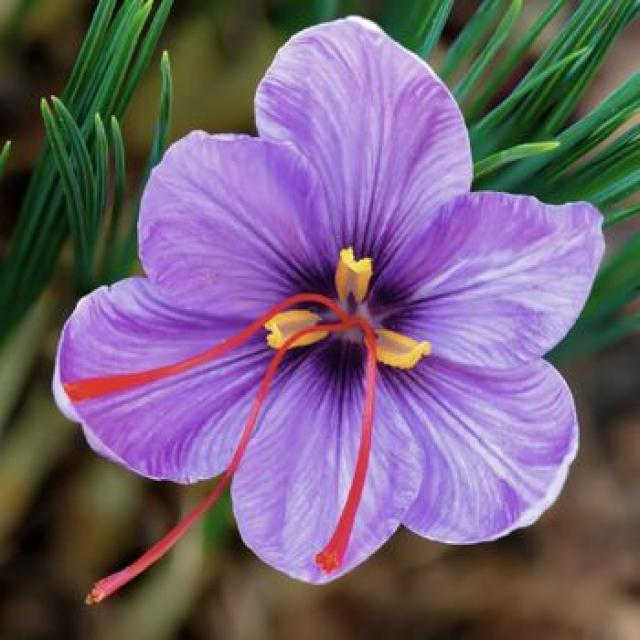Flower: (150, 125, 530, 552)
stigma: (87, 413, 260, 612), (68, 290, 337, 408), (313, 322, 380, 572)
